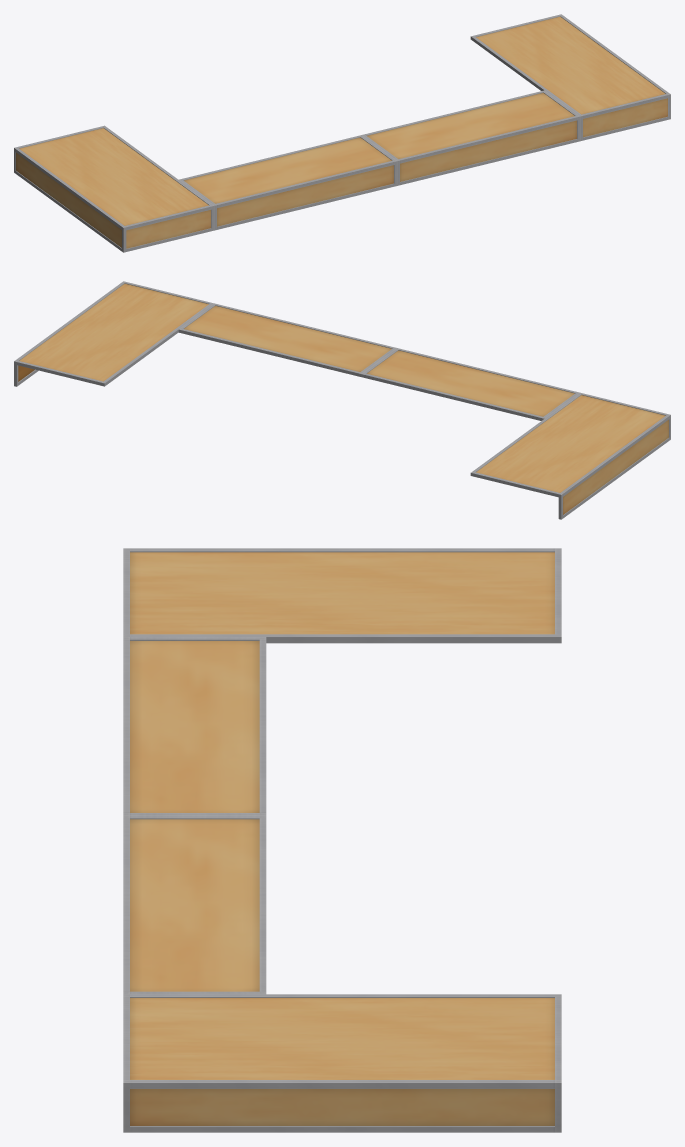
File: jsf_2P_s03_c05_t04_DX.fbx
The picture shows the model from 3 angles, top to bottom: view 1: azimuth 30°, elevation 25°; view 2: azimuth 150°, elevation 25°; view 3: azimuth 270°, elevation 25°; orthographic projection. The views are drawn at different scales.
Parts seen in each view (by area): view 1: jsf_2P_s03_c05_t04_DX; view 2: jsf_2P_s03_c05_t04_DX; view 3: jsf_2P_s03_c05_t04_DX.
Boxes of the visible parts, left/top/right/bottom form: jsf_2P_s03_c05_t04_DX: left=14, top=14, right=670, bottom=252; jsf_2P_s03_c05_t04_DX: left=14, top=281, right=670, bottom=519; jsf_2P_s03_c05_t04_DX: left=123, top=548, right=561, bottom=1132.
Size of the model in its own units: 289 by 12.51 by 100.
